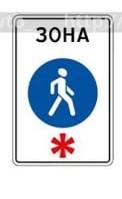road_sign: (12, 12, 118, 169)
